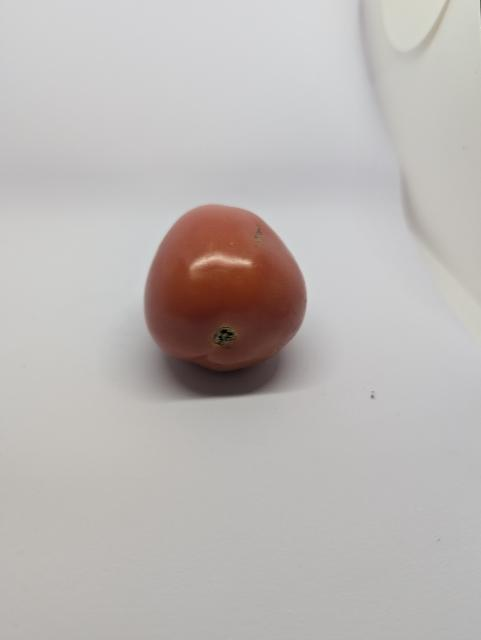red: (110, 178, 337, 396)
